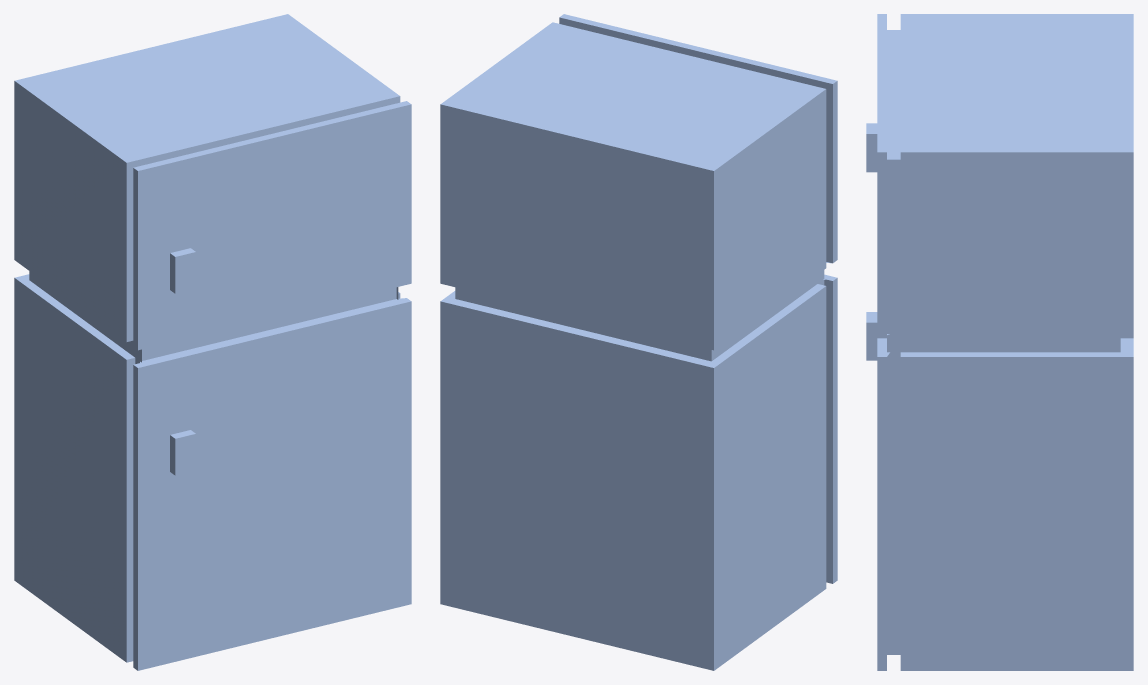
3 views of the same model, side by side, from view 1: azimuth 30°, elevation 25°; view 2: azimuth 150°, elevation 25°; view 3: azimuth 270°, elevation 25° (orthographic). The views are drawn at different scales.
Visible parts, largest first — view 1: OB3_2; view 2: OB3_2; view 3: OB3_2.
Part boxes in pixels (x1=…): OB3_2: x1=14, y1=14, x2=411, y2=670; OB3_2: x1=440, y1=14, x2=837, y2=670; OB3_2: x1=866, y1=14, x2=1133, y2=670.
Bounding box in the file's own units: 1.28 × 2.23 × 1.04.
Materials: 1 (1 with a texture image).
